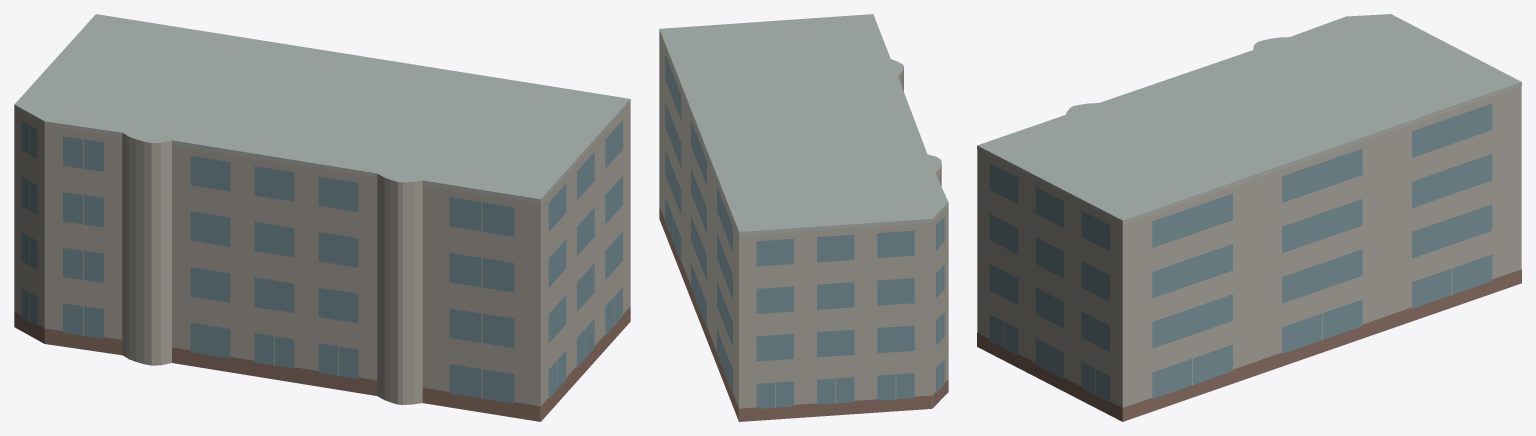
The model's file is survey-upis-32882467.glb.
3 renders of one model, left to right at view 1: azimuth 30°, elevation 25°; view 2: azimuth 150°, elevation 25°; view 3: azimuth 270°, elevation 25°, orthographic. The views are drawn at different scales.
Parts seen in each view (by area): view 1: survey-upis-32882467.tmp; view 2: survey-upis-32882467.tmp; view 3: survey-upis-32882467.tmp.
Part boxes in pixels (box(x1,y1,x2,y2)): survey-upis-32882467.tmp: box(14, 14, 630, 421); survey-upis-32882467.tmp: box(659, 14, 948, 421); survey-upis-32882467.tmp: box(977, 14, 1521, 421).
Bounding box in the file's own units: 26.85 × 12.2 × 29.92.
